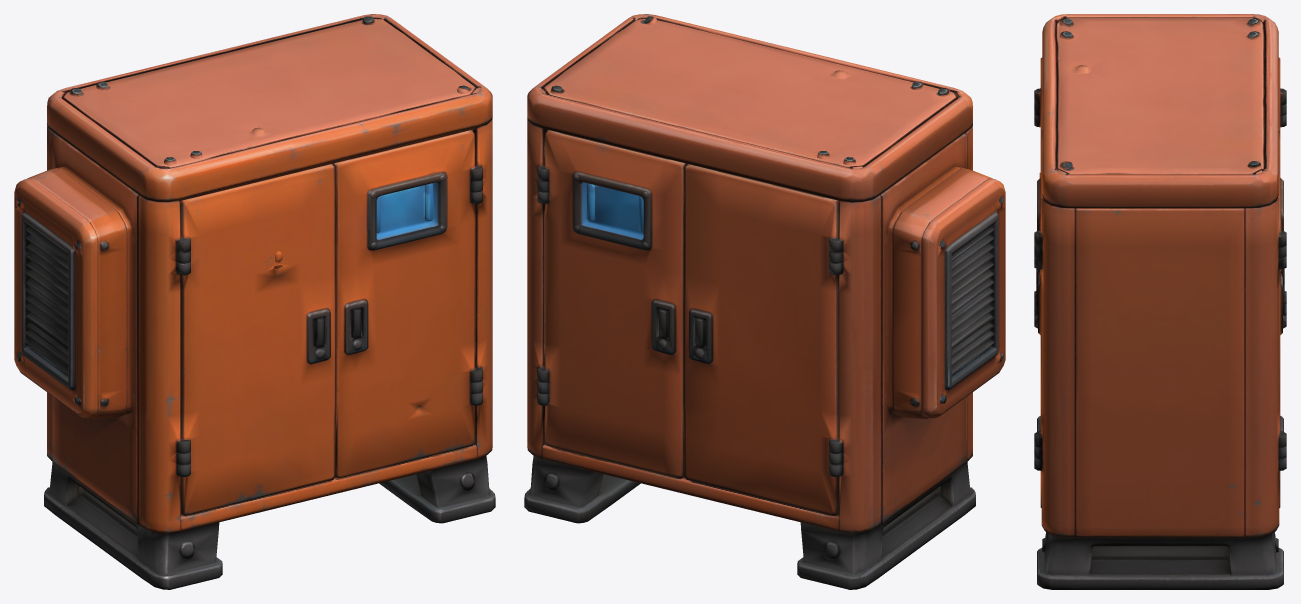
The model's file is decor_1.fbx.
3 renders of one model, left to right at view 1: azimuth 30°, elevation 25°; view 2: azimuth 150°, elevation 25°; view 3: azimuth 270°, elevation 25°, orthographic.
Parts seen in each view (by area): view 1: decor_1; view 2: decor_1; view 3: decor_1.
Boxes of the visible parts, <box> form: decor_1: <box>14,14,495,589</box>; decor_1: <box>524,14,1005,589</box>; decor_1: <box>1034,14,1286,589</box>.
Size of the model in its own units: 0.7 by 0.7 by 0.3849.
